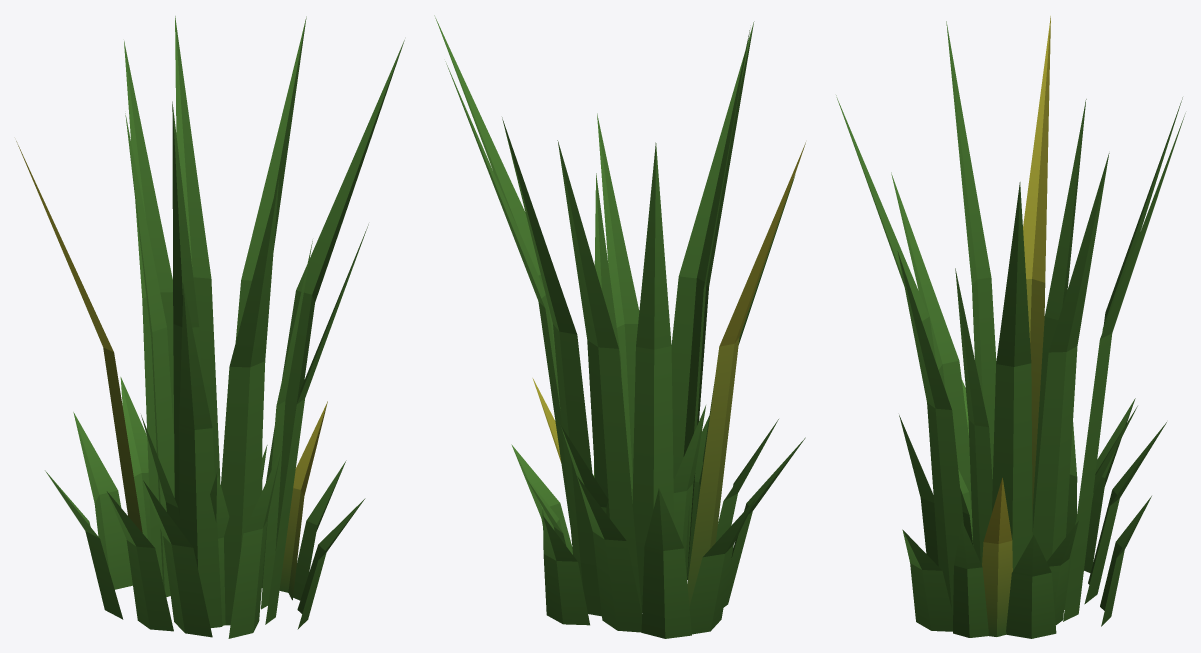
Rendered from grass_tuft.glb.
The picture shows the model from 3 angles, left to right: view 1: azimuth 30°, elevation 25°; view 2: azimuth 150°, elevation 25°; view 3: azimuth 270°, elevation 25°; orthographic projection. The views are drawn at different scales.
Visible parts, largest first — view 1: GrassTuftBlades; view 2: GrassTuftBlades; view 3: GrassTuftBlades.
Part boxes in pixels (<box>): GrassTuftBlades: <box>16,16,404,638</box>; GrassTuftBlades: <box>434,15,805,638</box>; GrassTuftBlades: <box>836,16,1185,638</box>.
Size of the model in its own units: 0.496 by 0.6859 by 0.3984.
